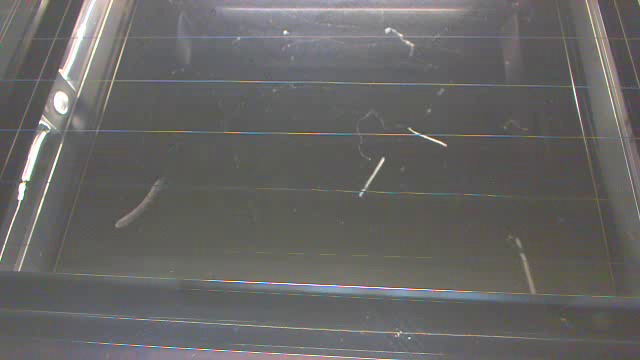alpha: (112, 178, 164, 232), (512, 235, 540, 295), (354, 156, 392, 198), (403, 125, 448, 148)
